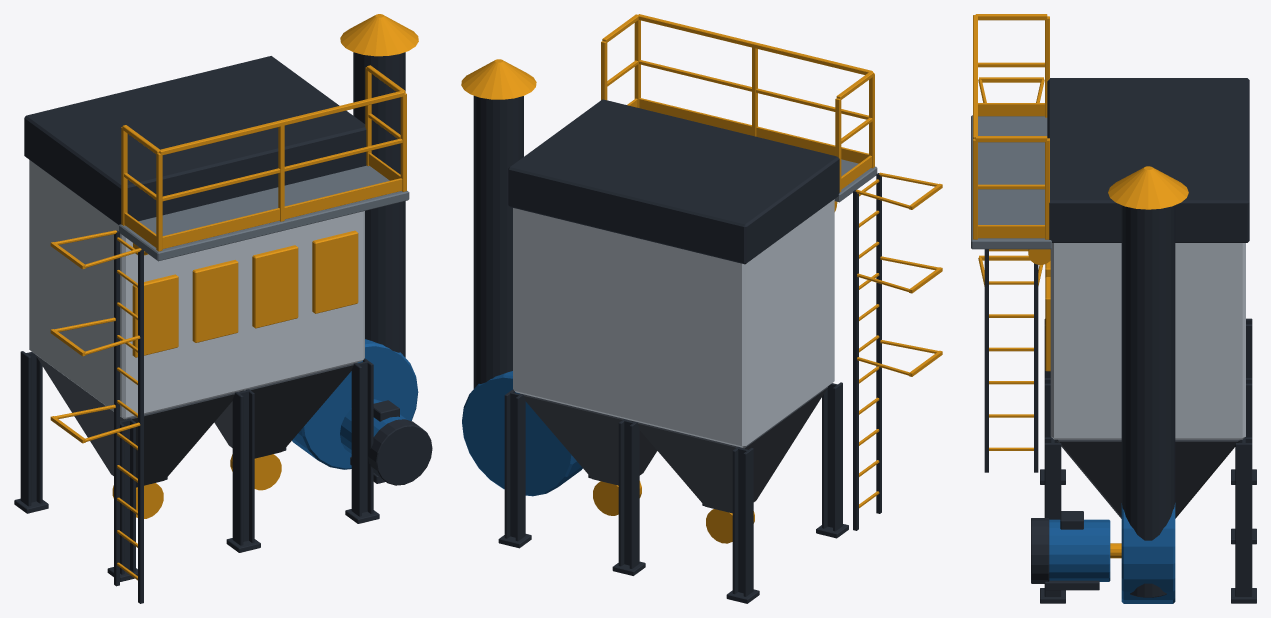
The model's file is dust_collector_dc101.glb.
3 views of the same model, side by side, from view 1: azimuth 30°, elevation 25°; view 2: azimuth 150°, elevation 25°; view 3: azimuth 270°, elevation 25° (orthographic). The views are drawn at different scales.
Parts seen in each view (by area): view 1: DC_CleanPlenum; view 2: DC_CleanPlenum; view 3: DC_CleanPlenum.
Boxes of the visible parts, box(x1,y1,x2,y2) form: DC_CleanPlenum: box(14, 14, 432, 603); DC_CleanPlenum: box(461, 14, 942, 603); DC_CleanPlenum: box(971, 14, 1256, 603).
Bounding box in the file's own units: 4.36 × 4.55 × 2.55.
1 material, 1 textured.
